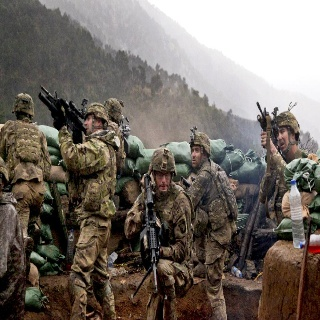rifle: (136, 174, 174, 296), (37, 83, 92, 146)
